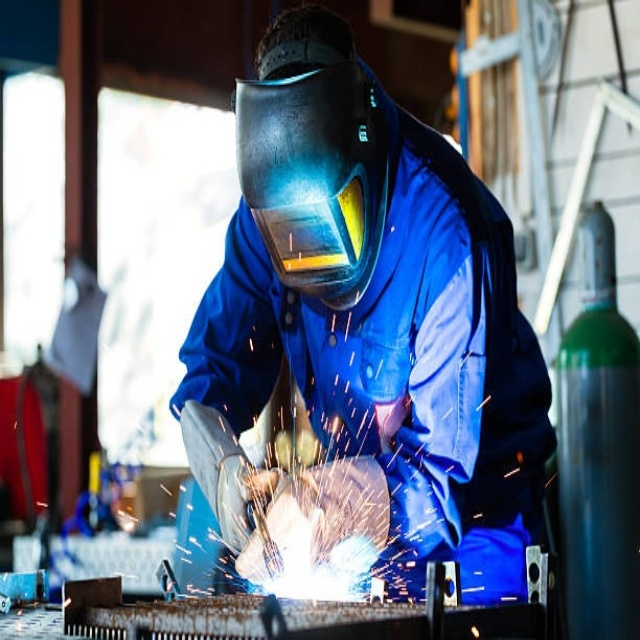Guantes: (231, 439, 396, 591)
